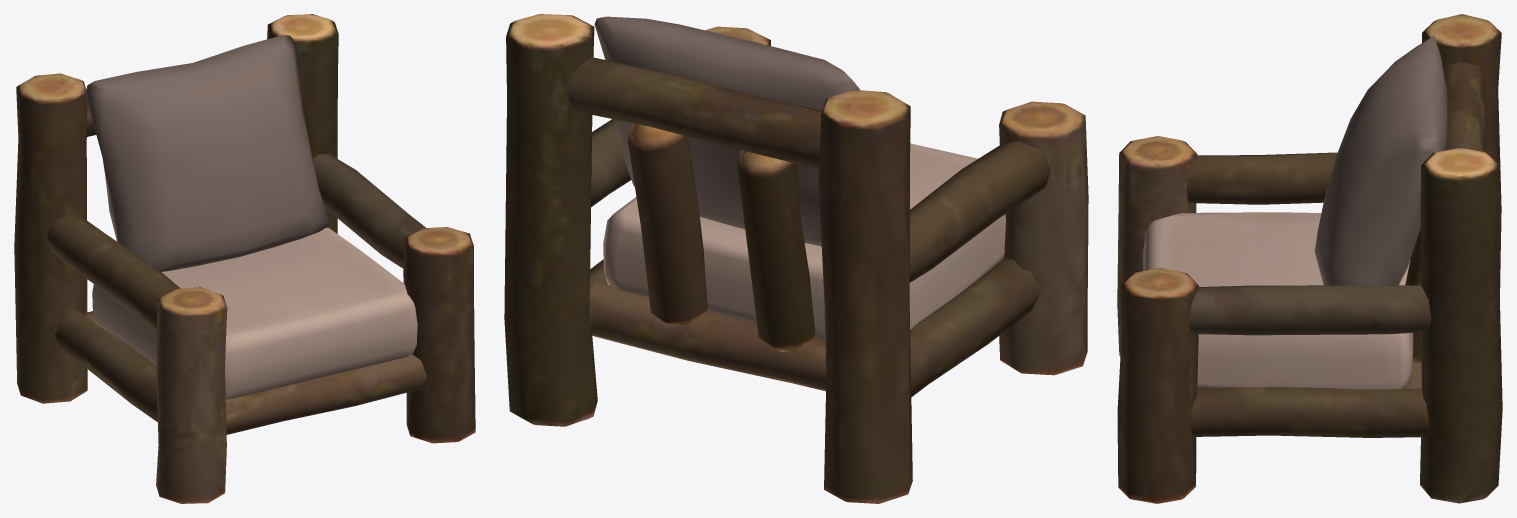
3 renders of one model, left to right at view 1: azimuth 30°, elevation 25°; view 2: azimuth 150°, elevation 25°; view 3: azimuth 270°, elevation 25°, orthographic. The views are drawn at different scales.
Size of the model in its own units: 9.82 by 9.23 by 9.56.
Materials: 2 (2 with a texture image).
